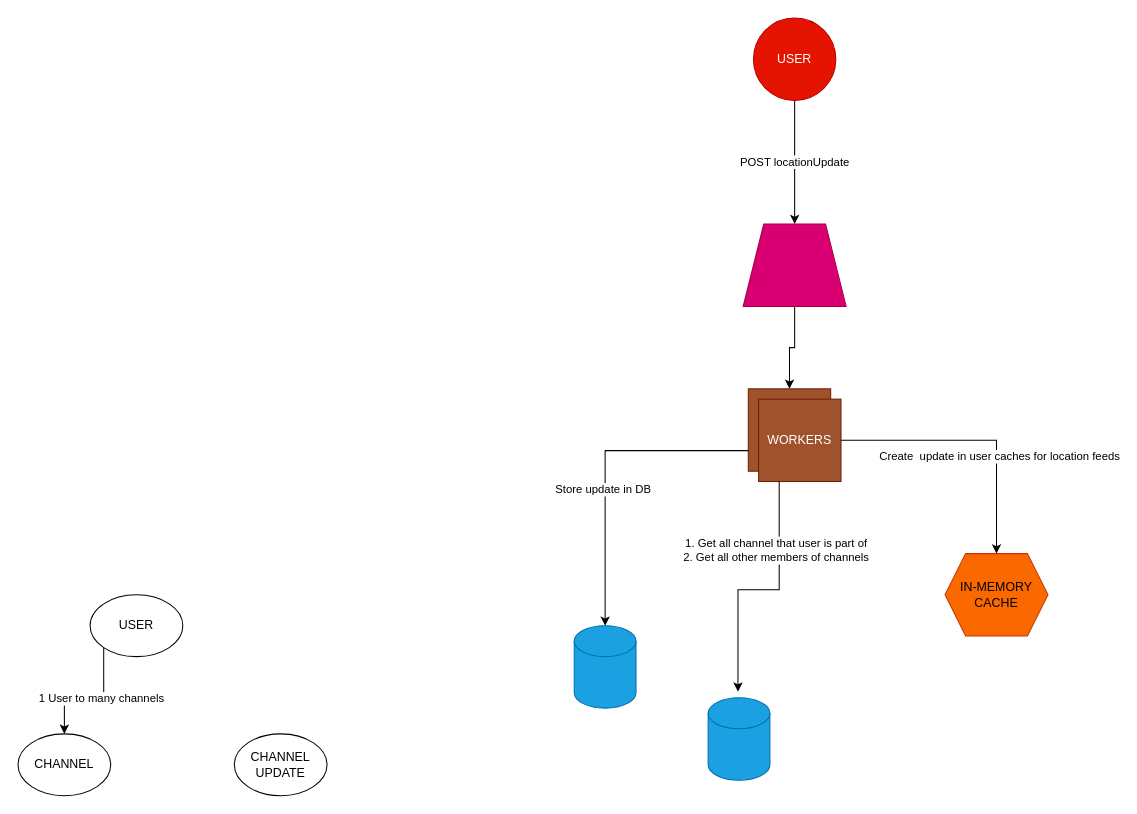
Image size: 1137x814. Some labels were removed from this diagram. The centre of each missing label's shape, as x and y in pixels:
CHANNEL DB: pixel 738 738
LOAD BALANCER: pixel 794 264
LOCATION UPDATE DB: pixel 604 666
